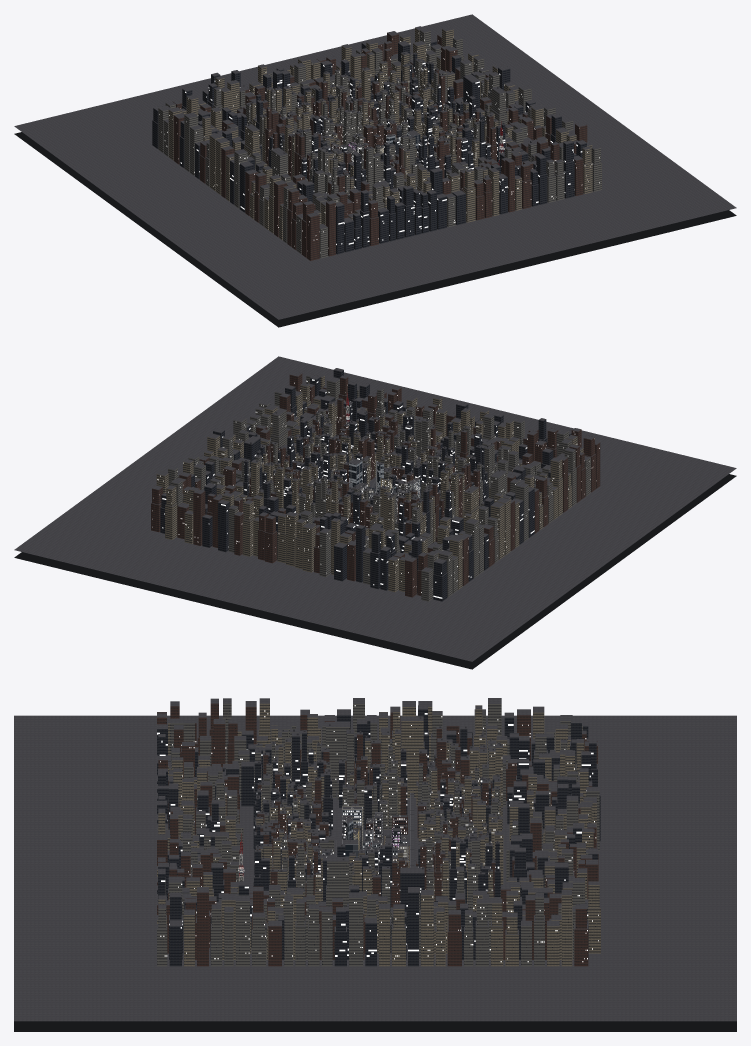
Rendered from DeathsGambitMaps_Tokyo.fbx.
The picture shows the model from 3 angles, top to bottom: view 1: azimuth 30°, elevation 25°; view 2: azimuth 150°, elevation 25°; view 3: azimuth 270°, elevation 25°; orthographic projection. The views are drawn at different scales.
Parts seen in each view (by area): view 1: Map_Tokyo_ConcreteDark_39, Map_Tokyo_ConcreteDark_37, Map_Tokyo_ConcreteDark_40, Map_Tokyo_ConcreteDark_38, Map_Tokyo_NightOffice_30, Map_Tokyo_NightBrick_32, Map_Tokyo_NightFlats_31, Map_Tokyo_NightTile_33, Map_Tokyo_NightOffice_28, Map_Tokyo_NightBrick_30, Map_Tokyo_NightTile_31, Map_Tokyo_NightFlats_29 (+11 smaller); view 2: Map_Tokyo_ConcreteDark_40, Map_Tokyo_ConcreteDark_38, Map_Tokyo_ConcreteDark_39, Map_Tokyo_ConcreteDark_37, Map_Tokyo_NightTile_33, Map_Tokyo_NightTile_31, Map_Tokyo_NightOffice_31, Map_Tokyo_NightFlats_31, Map_Tokyo_NightBrick_31, Map_Tokyo_NightFlats_32, Map_Tokyo_NightBrick_32, Map_Tokyo_NightBrick_33 (+11 smaller); view 3: Map_Tokyo_ConcreteDark_37, Map_Tokyo_ConcreteDark_38, Map_Tokyo_ConcreteDark_39, Map_Tokyo_ConcreteDark_40, Map_Tokyo_NightFlats_29, Map_Tokyo_NightTile_31, Map_Tokyo_NightTile_33, Map_Tokyo_NightFlats_30, Map_Tokyo_NightFlats_31, Map_Tokyo_NightOffice_29, Map_Tokyo_NightBrick_31, Map_Tokyo_NightOffice_28 (+11 smaller).
Part boxes in pixels (x1,y1,x2,y2): Map_Tokyo_ConcreteDark_39: (146, 128, 507, 319); Map_Tokyo_ConcreteDark_37: (415, 85, 736, 263); Map_Tokyo_ConcreteDark_40: (14, 63, 339, 222); Map_Tokyo_ConcreteDark_38: (243, 14, 604, 145); Map_Tokyo_NightOffice_30: (230, 136, 446, 254); Map_Tokyo_NightBrick_32: (245, 133, 450, 260); Map_Tokyo_NightFlats_31: (234, 130, 455, 258); Map_Tokyo_NightTile_33: (168, 65, 338, 201); Map_Tokyo_NightOffice_28: (416, 97, 586, 225); Map_Tokyo_NightBrick_30: (417, 105, 587, 220); Map_Tokyo_NightTile_31: (298, 28, 518, 123); Map_Tokyo_NightFlats_29: (418, 87, 601, 202); Map_Tokyo_ConcreteDark_40: (243, 470, 604, 661); Map_Tokyo_ConcreteDark_38: (14, 428, 331, 605); Map_Tokyo_ConcreteDark_39: (411, 402, 736, 564); Map_Tokyo_ConcreteDark_37: (146, 356, 507, 487); Map_Tokyo_NightTile_33: (295, 472, 519, 592); Map_Tokyo_NightTile_31: (156, 434, 330, 566); Map_Tokyo_NightOffice_31: (320, 478, 519, 601); Map_Tokyo_NightFlats_31: (415, 416, 590, 541); Map_Tokyo_NightBrick_31: (151, 443, 314, 563); Map_Tokyo_NightFlats_32: (301, 482, 508, 601); Map_Tokyo_NightBrick_32: (429, 415, 600, 533); Map_Tokyo_NightBrick_33: (314, 477, 514, 597); Map_Tokyo_ConcreteDark_37: (14, 788, 378, 1021); Map_Tokyo_ConcreteDark_38: (372, 786, 736, 1021); Map_Tokyo_ConcreteDark_39: (14, 698, 378, 892); Map_Tokyo_ConcreteDark_40: (371, 698, 736, 868); Map_Tokyo_NightFlats_29: (157, 815, 378, 966); Map_Tokyo_NightTile_31: (375, 801, 600, 966); Map_Tokyo_NightTile_33: (379, 705, 596, 849); Map_Tokyo_NightFlats_30: (382, 789, 588, 966); Map_Tokyo_NightFlats_31: (170, 703, 377, 850); Map_Tokyo_NightOffice_29: (374, 807, 598, 966); Map_Tokyo_NightBrick_31: (372, 823, 598, 966); Map_Tokyo_NightOffice_28: (157, 792, 376, 966).
Size of the model in its own units: 2800 by 435 by 2800.
Materials: 107 (75 with a texture image).
